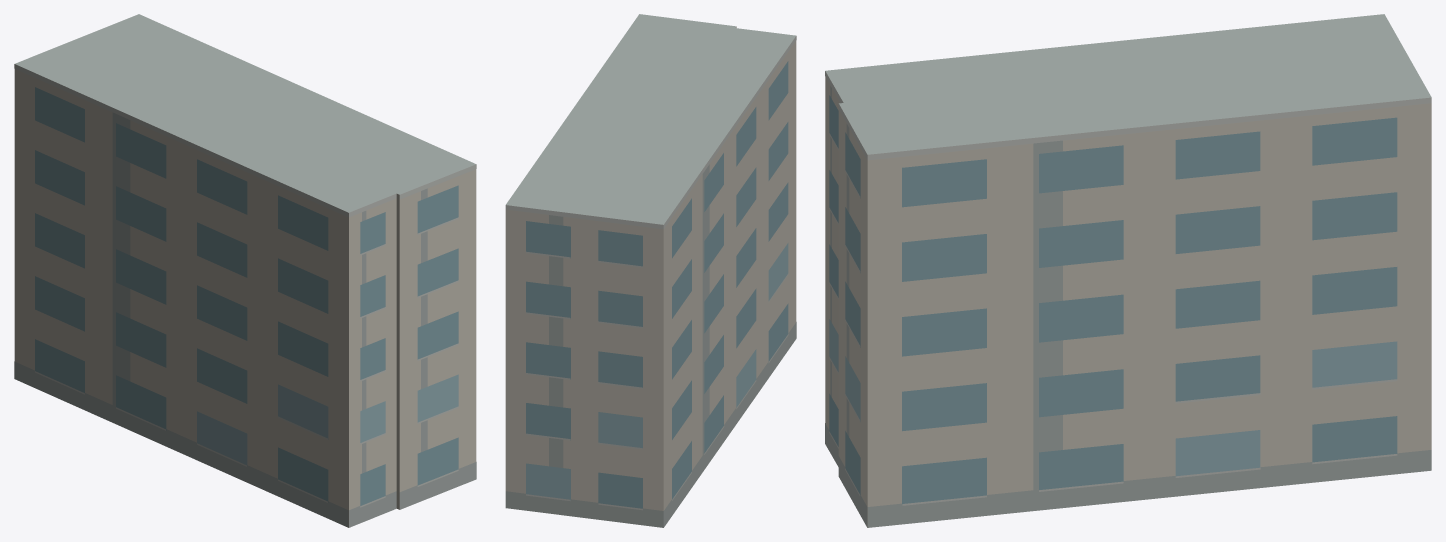
Rendered from survey-upis-32638624.glb.
The picture shows the model from 3 angles, left to right: view 1: azimuth 30°, elevation 25°; view 2: azimuth 150°, elevation 25°; view 3: azimuth 270°, elevation 25°; orthographic projection. The views are drawn at different scales.
Parts seen in each view (by area): view 1: survey-upis-32638624.tmp; view 2: survey-upis-32638624.tmp; view 3: survey-upis-32638624.tmp.
Boxes of the visible parts, x1,y1,x2,y2 form: survey-upis-32638624.tmp: (14,14,476,527); survey-upis-32638624.tmp: (505,14,796,527); survey-upis-32638624.tmp: (825,14,1431,527).
Bounding box in the file's own units: 13.2 × 16.3 × 24.03.
